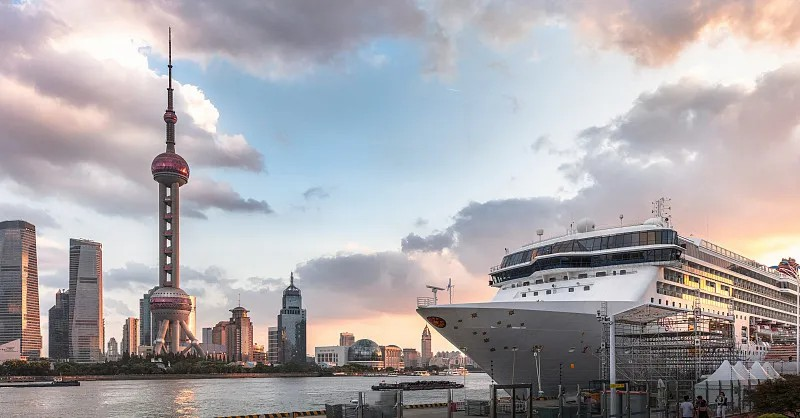Oriental: (150, 26, 205, 357)
